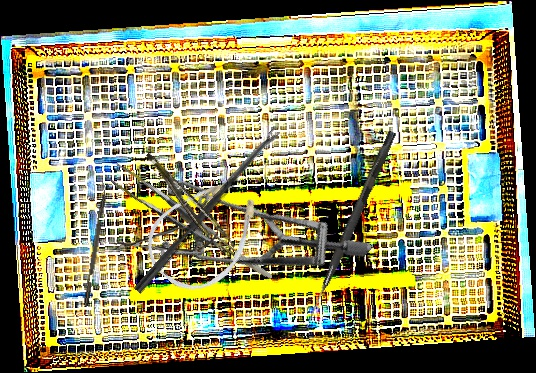Cannula: (132, 156, 281, 307)
Chopper: (77, 180, 110, 307)
Hook Surgical: (305, 129, 397, 324)
Micro Scissor: (110, 225, 219, 256)
Speculum: (128, 116, 373, 359)
Surgical Spoon: (133, 127, 282, 295)
Tissue Forceps: (105, 148, 273, 305), (145, 143, 236, 259)
